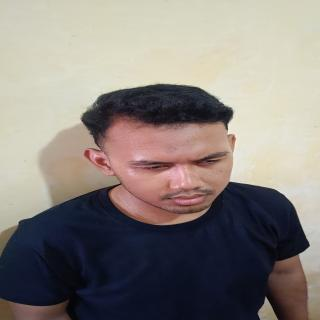Marah: (91, 115, 250, 215)
